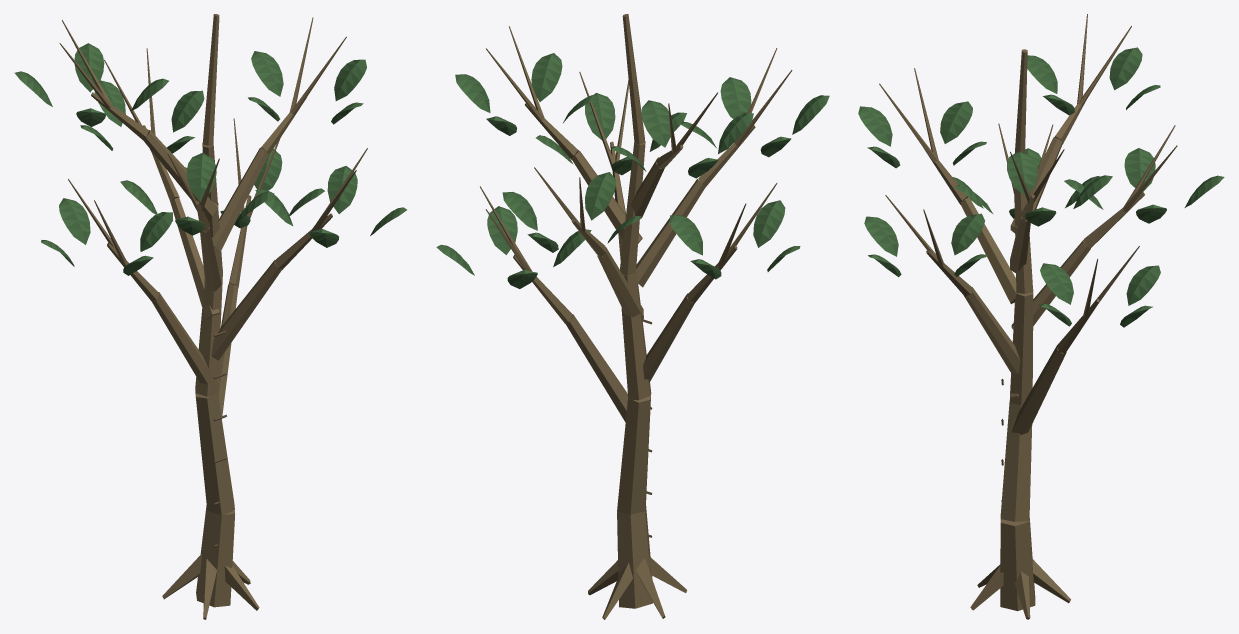
The model's file is lemon_young.glb.
3 renders of one model, left to right at view 1: azimuth 30°, elevation 25°; view 2: azimuth 150°, elevation 25°; view 3: azimuth 270°, elevation 25°, orthographic. The views are drawn at different scales.
Visible parts, largest first — view 1: branches, leaves; view 2: branches, leaves; view 3: branches, leaves.
Boxes of the visible parts, x1=… form: branches: x1=59, y1=14, x2=367, y2=619; leaves: x1=14, y1=43, x2=406, y2=275; branches: x1=480, y1=14, x2=792, y2=619; leaves: x1=436, y1=53, x2=829, y2=288; branches: x1=879, y1=14, x2=1177, y2=619; leaves: x1=858, y1=47, x2=1224, y2=327.
Bounding box in the file's own units: 0.955 × 1.6 × 0.955.
